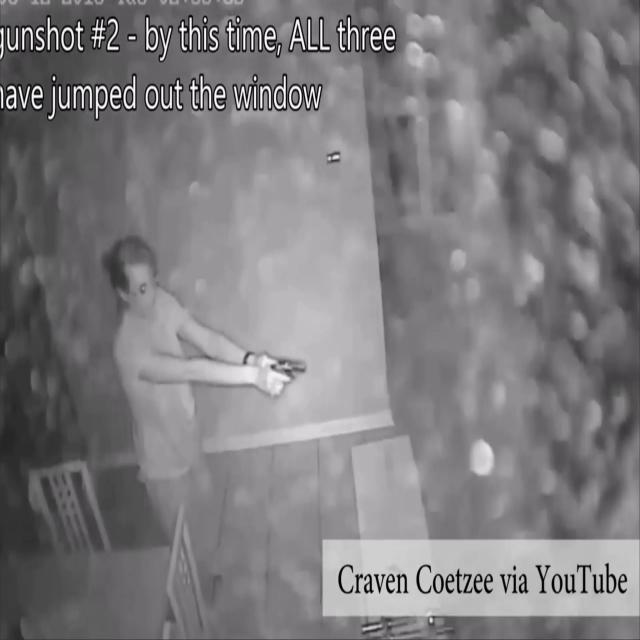gun: (268, 356, 306, 390)
